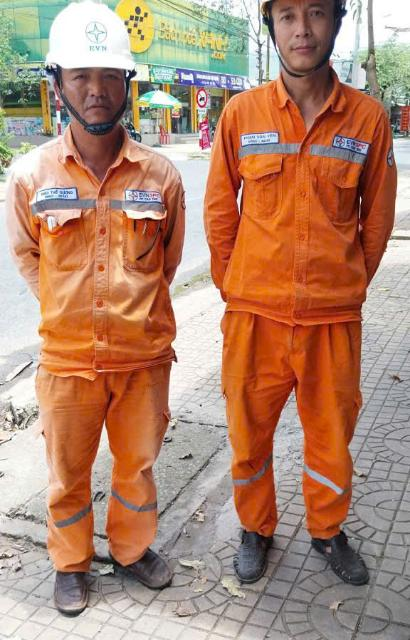helmet: (41, 0, 160, 88)
shoes: (298, 523, 383, 593), (110, 535, 192, 606), (222, 508, 282, 590), (45, 556, 108, 627)
